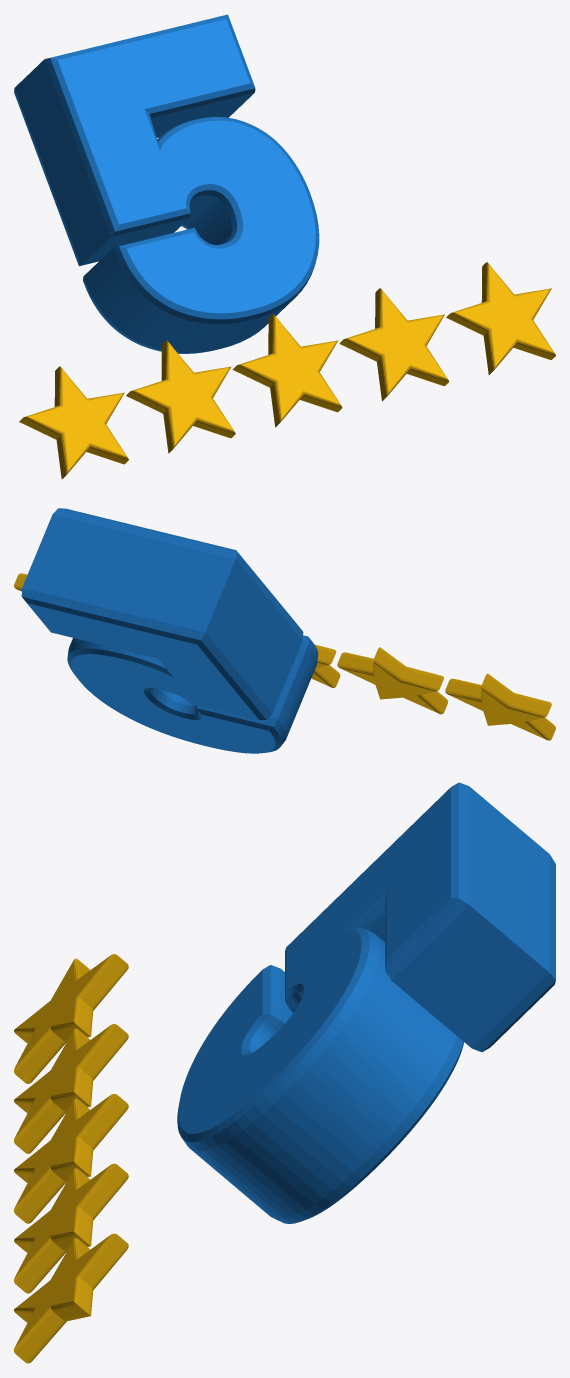
The model's file is num_5.glb.
The picture shows the model from 3 angles, top to bottom: view 1: azimuth 30°, elevation 25°; view 2: azimuth 150°, elevation 25°; view 3: azimuth 270°, elevation 25°; orthographic projection. The views are drawn at different scales.
Bounding box in the file's own units: 2.08 × 1.01 × 1.38.
